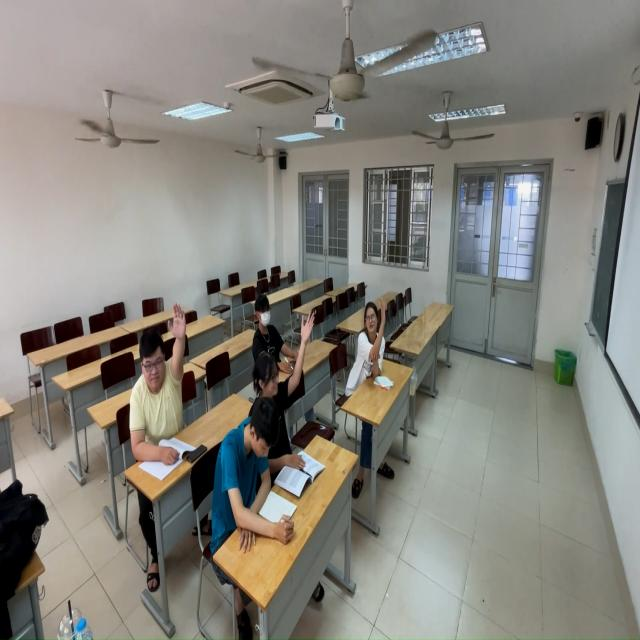raise_hand: (128, 300, 194, 462), (255, 331, 306, 478), (351, 288, 393, 407)
read: (214, 380, 277, 545), (251, 286, 289, 376)
